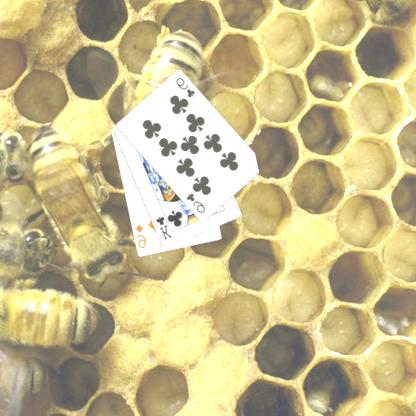9C: (175, 75, 198, 99), (186, 191, 208, 215)
9D: (135, 222, 149, 250)
KC: (155, 209, 176, 241)
